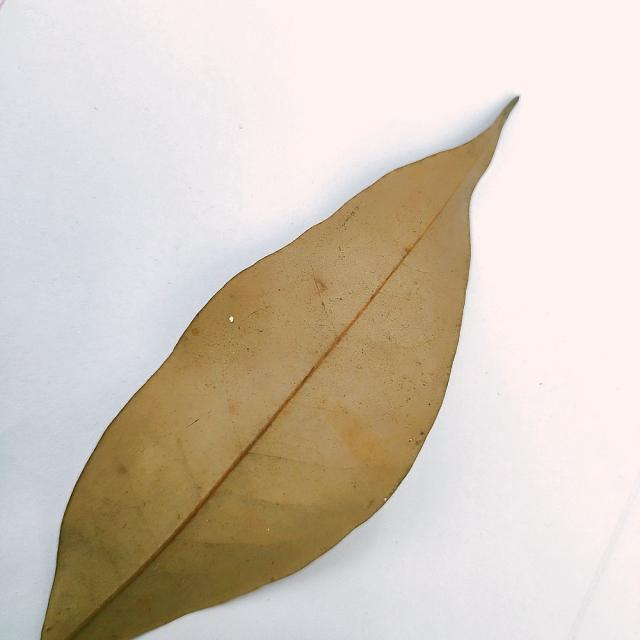Dry_Leaf-Lychee: (39, 102, 513, 639)
